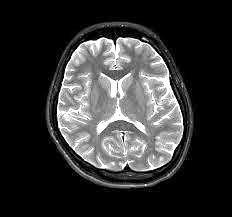Normal_Brain: (23, 1, 232, 209)
